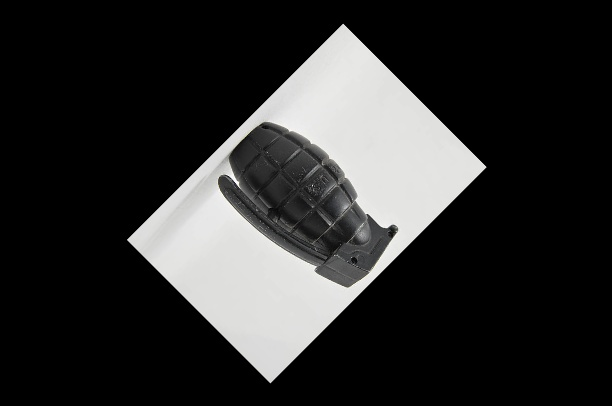e1: (216, 121, 402, 290)
